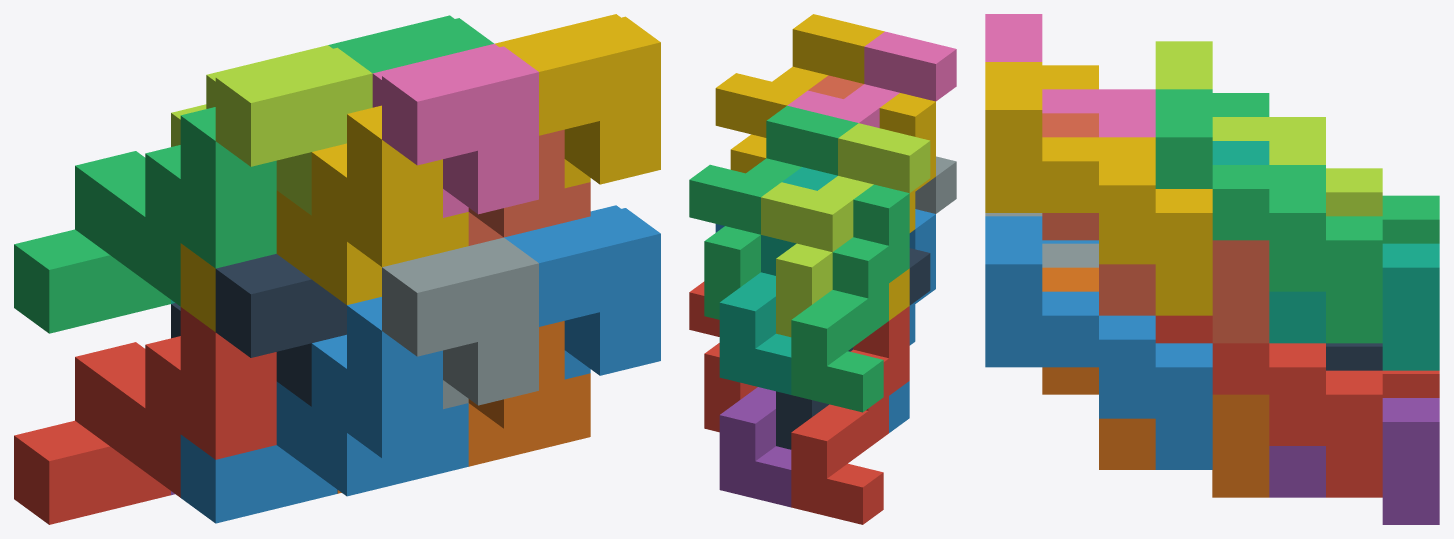
File: tiling.obj
3 renders of one model, left to right at view 1: azimuth 30°, elevation 25°; view 2: azimuth 150°, elevation 25°; view 3: azimuth 270°, elevation 25°, orthographic. The views are drawn at different scales.
Visible parts, largest first — view 1: copy_1_domain_3, copy_1_domain_1, copy_1_domain_2, copy_1_domain_4, copy_2_domain_4, copy_2_domain_2, copy_2_domain_8, copy_2_domain_6, copy_2_domain_3, copy_2_domain_1, copy_1_domain_6, copy_1_domain_8 (+1 smaller); view 2: copy_1_domain_3, copy_2_domain_3, copy_2_domain_7, copy_1_domain_1, copy_2_domain_8, copy_1_domain_7, copy_2_domain_4, copy_1_domain_5, copy_1_domain_4, copy_2_domain_5, copy_2_domain_1, copy_1_domain_2 (+2 smaller); view 3: copy_2_domain_8, copy_2_domain_6, copy_2_domain_7, copy_2_domain_5, copy_1_domain_6, copy_1_domain_8, copy_1_domain_7, copy_1_domain_5, copy_2_domain_3, copy_2_domain_4, copy_1_domain_3, copy_2_domain_2 (+3 smaller).
Part boxes in pixels (x1,y1,x2,y2): copy_1_domain_3: (14, 107, 276, 333); copy_1_domain_1: (14, 307, 276, 524); copy_1_domain_2: (180, 297, 468, 523); copy_1_domain_4: (180, 105, 468, 331); copy_2_domain_4: (372, 43, 538, 217); copy_2_domain_2: (382, 237, 538, 409); copy_2_domain_8: (495, 14, 660, 188); copy_2_domain_6: (504, 205, 660, 379); copy_2_domain_3: (171, 45, 372, 215); copy_2_domain_1: (171, 254, 346, 406); copy_1_domain_6: (337, 321, 590, 493); copy_1_domain_8: (468, 129, 590, 245); copy_1_domain_3: (791, 184, 909, 412); copy_2_domain_3: (761, 123, 930, 337); copy_2_domain_7: (689, 105, 858, 319); copy_1_domain_1: (791, 306, 909, 524); copy_2_domain_8: (715, 14, 884, 173); copy_1_domain_7: (719, 167, 837, 394); copy_2_domain_4: (787, 31, 956, 127); copy_1_domain_5: (719, 387, 791, 507); copy_1_domain_4: (879, 93, 935, 320); copy_2_domain_5: (689, 281, 757, 432); copy_2_domain_1: (776, 248, 930, 449); copy_1_domain_2: (889, 209, 935, 432); copy_2_domain_8: (985, 62, 1212, 315); copy_2_domain_6: (985, 216, 1212, 469); copy_2_domain_7: (1155, 89, 1382, 343); copy_2_domain_5: (1155, 315, 1382, 497); copy_1_domain_6: (1042, 267, 1269, 497); copy_1_domain_8: (1042, 113, 1269, 343); copy_1_domain_7: (1212, 141, 1439, 370); copy_1_domain_5: (1269, 398, 1439, 524); copy_2_domain_3: (1155, 41, 1382, 216); copy_2_domain_4: (985, 14, 1155, 137); copy_1_domain_3: (1212, 93, 1439, 243); copy_2_domain_2: (985, 213, 1098, 267).
Bounding box in the file's own units: 7 × 9 × 8.
